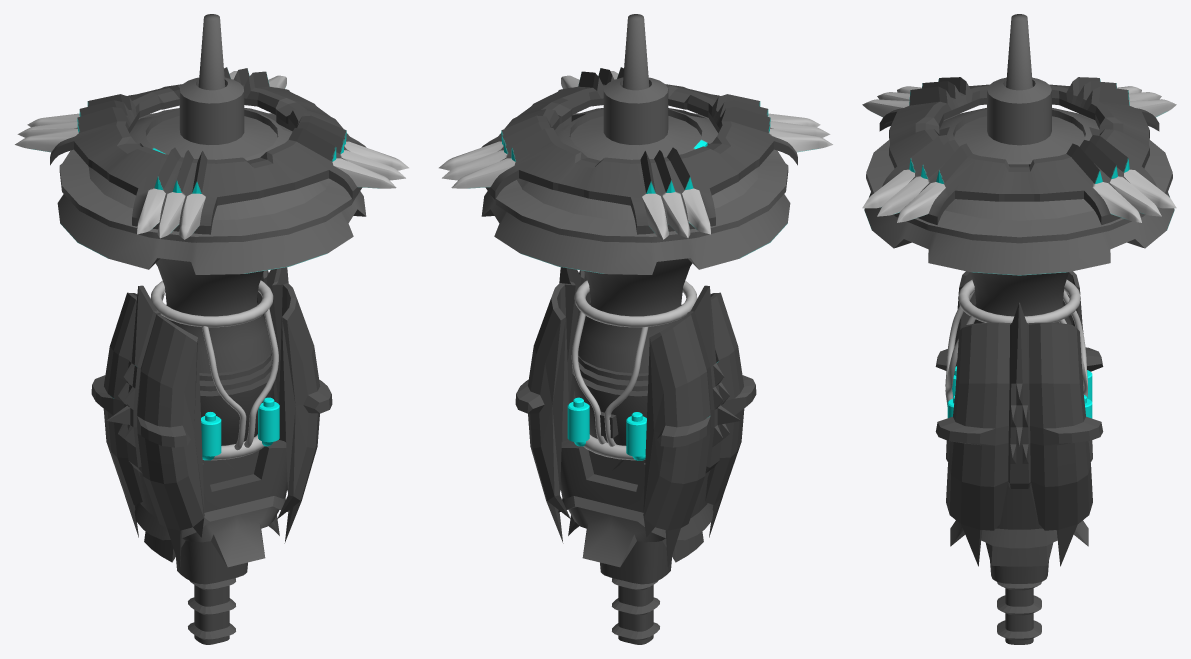
The model's file is msr.fbx.
The picture shows the model from 3 angles, left to right: view 1: azimuth 30°, elevation 25°; view 2: azimuth 150°, elevation 25°; view 3: azimuth 270°, elevation 25°; orthographic projection.
Parts seen in each view (by area): view 1: 对象003, Cylinder002, 对象004, 对象001, 对象002, Line002, 对象005, Cylinder005, Cylinder006; view 2: 对象003, Cylinder002, 对象004, 对象001, 对象002, Line002, 对象005, Cylinder003, Cylinder004; view 3: Cylinder002, 对象003, 对象004, 对象001, 对象002, Line002, 对象005.
Part boxes in pixels (x1,y1,x2,y2): 对象003: (57, 14, 366, 274); Cylinder002: (91, 267, 332, 568); 对象004: (15, 67, 408, 239); 对象001: (134, 440, 289, 644); 对象002: (155, 258, 274, 445); Line002: (150, 280, 278, 460); 对象005: (176, 541, 247, 584); Cylinder005: (257, 397, 279, 446); Cylinder006: (201, 412, 221, 460); 对象003: (481, 14, 790, 274); Cylinder002: (515, 267, 756, 568); 对象004: (439, 67, 832, 239); 对象001: (558, 433, 713, 644); 对象002: (572, 258, 692, 445); Line002: (571, 280, 697, 460); 对象005: (600, 541, 671, 584); Cylinder003: (567, 397, 589, 446); Cylinder004: (626, 412, 646, 460); Cylinder002: (935, 271, 1103, 566); 对象003: (864, 14, 1174, 275); 对象004: (862, 77, 1176, 224); 对象001: (950, 487, 1088, 644); 对象002: (970, 272, 1071, 324); Line002: (945, 279, 1087, 406); 对象005: (990, 561, 1048, 583).
Size of the model in its own units: 68.32 by 149 by 68.32.
1 material, 1 textured.
